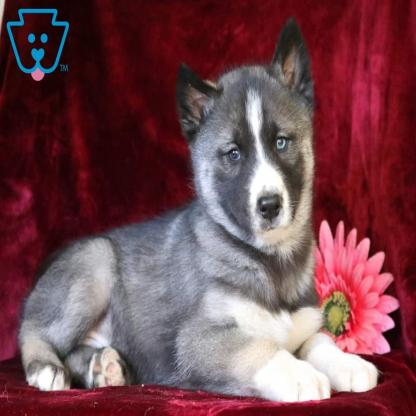husky: (20, 22, 379, 398)
